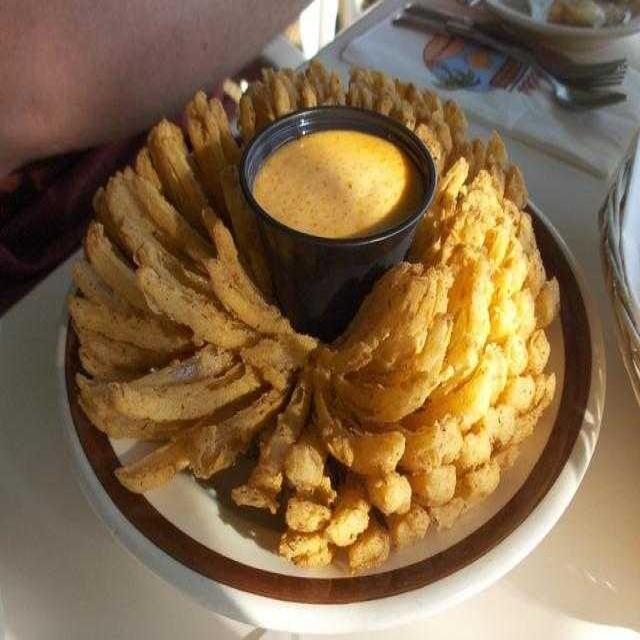onion: (67, 59, 561, 574)
